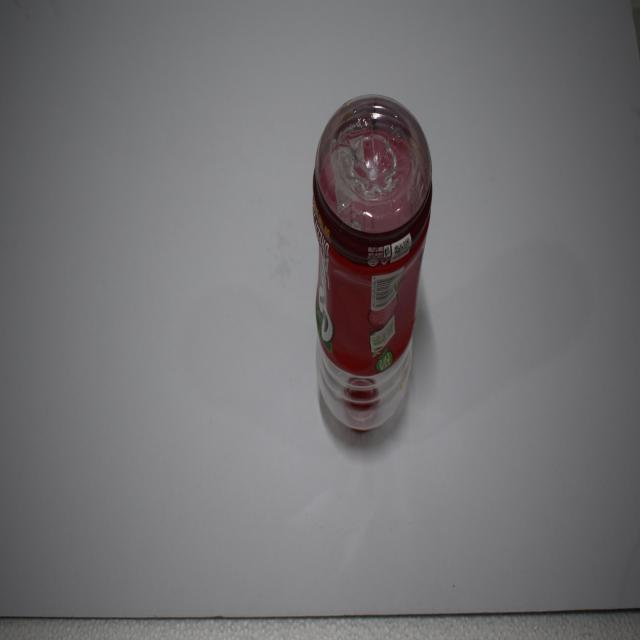bottle: (300, 88, 449, 454)
